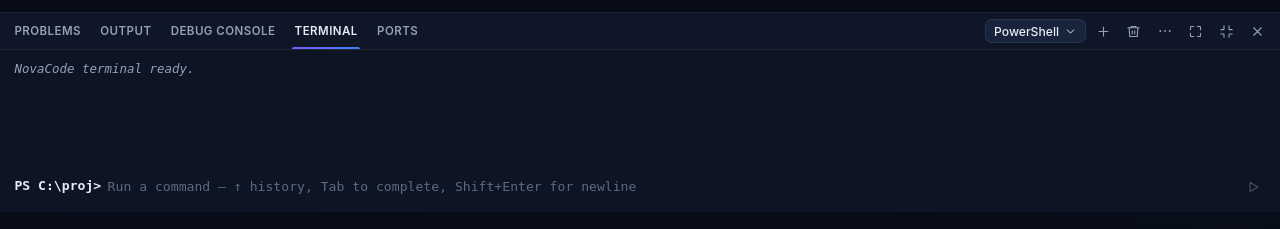
Test: TerminalPanel interactive shell › refuses to cd outside the workspace and keeps the directory
Type "cd C:/Windows" into the text box named "Terminal command". click: coordinates (671, 187)
box: top-left (108, 175), bottom-right (1234, 199)
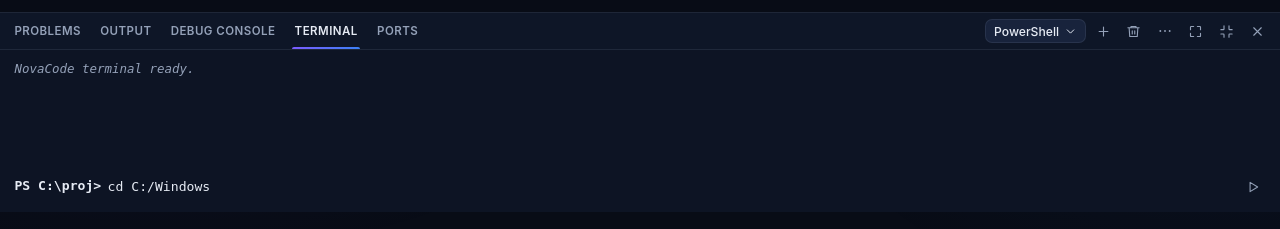
Press Enter
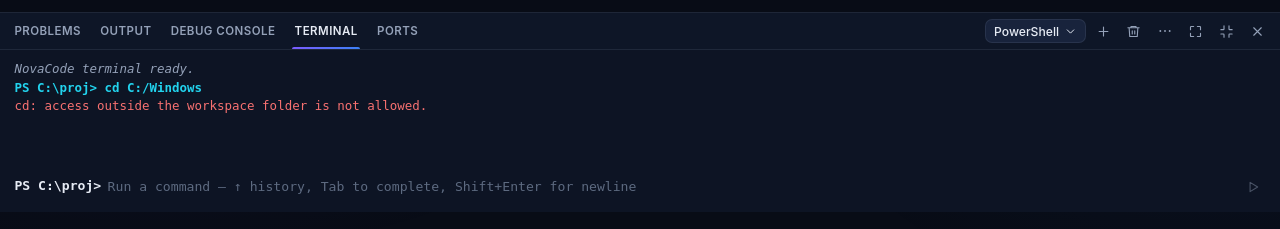
Expected: the text "PS C:\\proj>" is shown, top-left (14, 175), bottom-right (101, 196)
Expected: the text "cd: access outside the workspace folder is not allowed." is shown, top-left (14, 98), bottom-right (427, 113)
